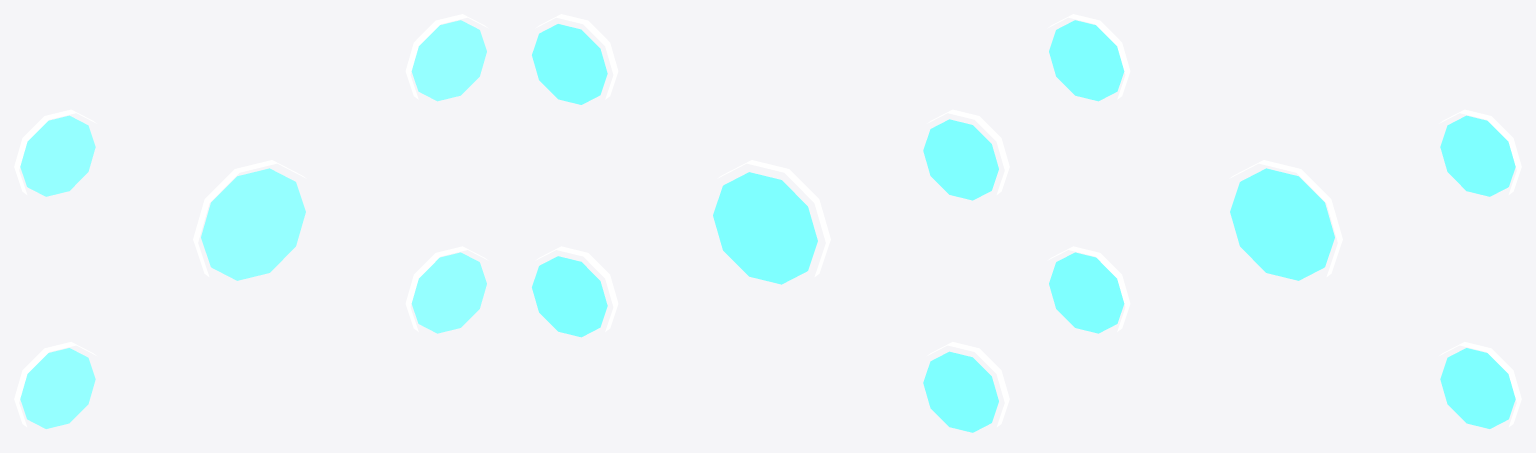
The model's file is hover-thrusters.glb.
The picture shows the model from 3 angles, left to right: view 1: azimuth 30°, elevation 25°; view 2: azimuth 150°, elevation 25°; view 3: azimuth 330°, elevation 25°; orthographic projection.
Visible parts, largest first — view 1: hover_thrusters; view 2: hover_thrusters; view 3: hover_thrusters.
Boxes of the visible parts, x1,y1,x2,y2 form: hover_thrusters: (14,14,488,428); hover_thrusters: (532,14,1009,432); hover_thrusters: (1047,14,1521,428).
Bounding box in the file's own units: 1.64 × 1.04 × 0.03.
